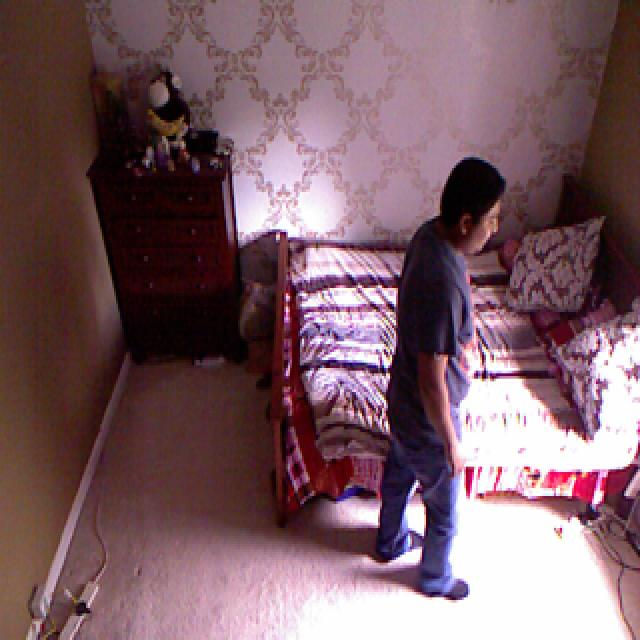standing: (381, 158, 501, 596)
